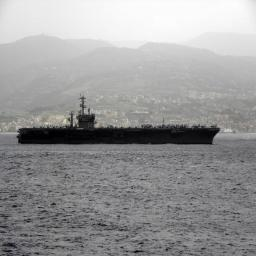Portanaves: (16, 95, 223, 147)
